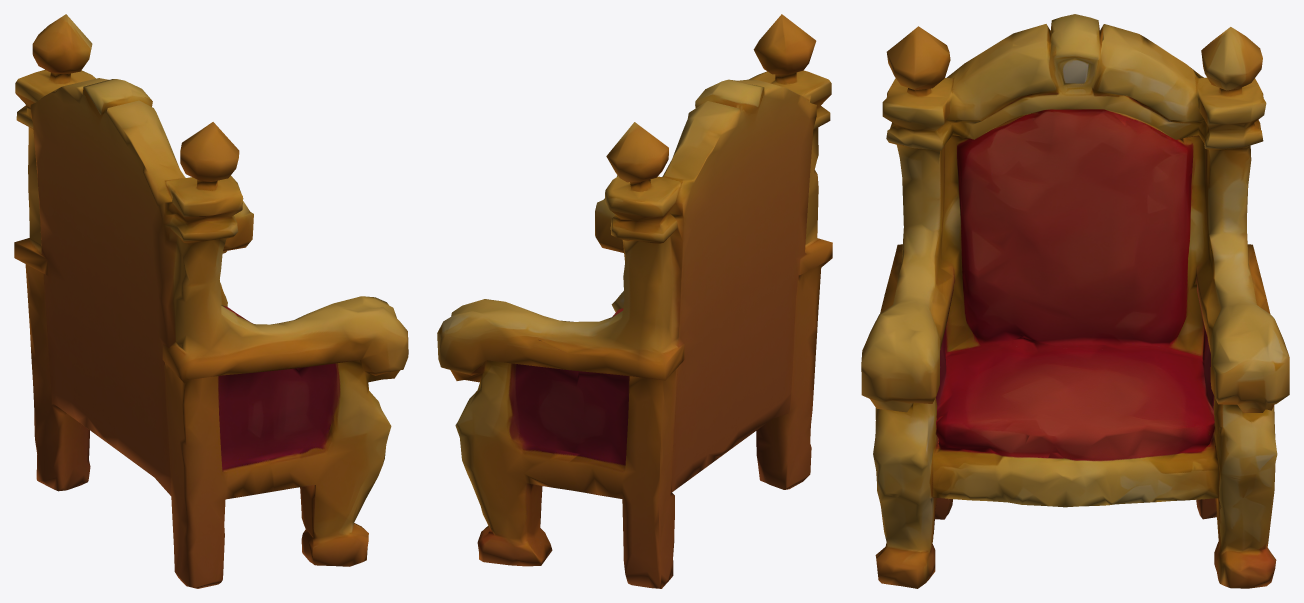
The model's file is throne_royal.glb.
The picture shows the model from 3 angles, left to right: view 1: azimuth 30°, elevation 25°; view 2: azimuth 150°, elevation 25°; view 3: azimuth 270°, elevation 25°; orthographic projection. The views are drawn at different scales.
Parts seen in each view (by area): view 1: tripo_node_0be89410-b216-41b3-9e8d-810f96c23f7e; view 2: tripo_node_0be89410-b216-41b3-9e8d-810f96c23f7e; view 3: tripo_node_0be89410-b216-41b3-9e8d-810f96c23f7e.
Boxes of the visible parts, <box> form: tripo_node_0be89410-b216-41b3-9e8d-810f96c23f7e: <box>14,14,408,588</box>; tripo_node_0be89410-b216-41b3-9e8d-810f96c23f7e: <box>437,14,832,588</box>; tripo_node_0be89410-b216-41b3-9e8d-810f96c23f7e: <box>861,14,1289,588</box>.
Size of the model in its own units: 0.5161 by 1 by 0.7935.
Materials: 1 (1 with a texture image).
